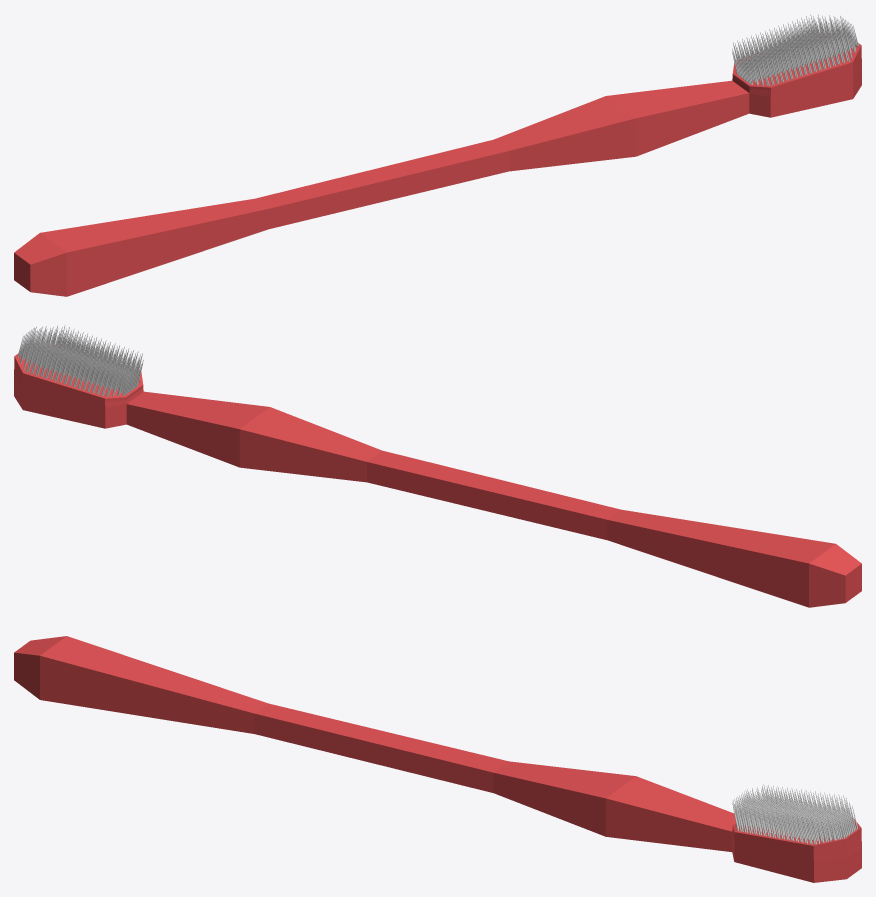
The model's file is brush.fbx.
The picture shows the model from 3 angles, top to bottom: view 1: azimuth 30°, elevation 25°; view 2: azimuth 150°, elevation 25°; view 3: azimuth 330°, elevation 25°; orthographic projection.
Parts seen in each view (by area): view 1: 立方體, 圓柱體; view 2: 立方體, 圓柱體; view 3: 立方體, 圓柱體.
Boxes of the visible parts, <box> form: 立方體: <box>14,34,861,296</box>; 圓柱體: <box>732,14,858,85</box>; 立方體: <box>14,345,861,607</box>; 圓柱體: <box>18,325,143,396</box>; 立方體: <box>14,636,861,882</box>; 圓柱體: <box>732,784,857,844</box>.
Bounding box in the file's own units: 1779 × 150 × 145.
